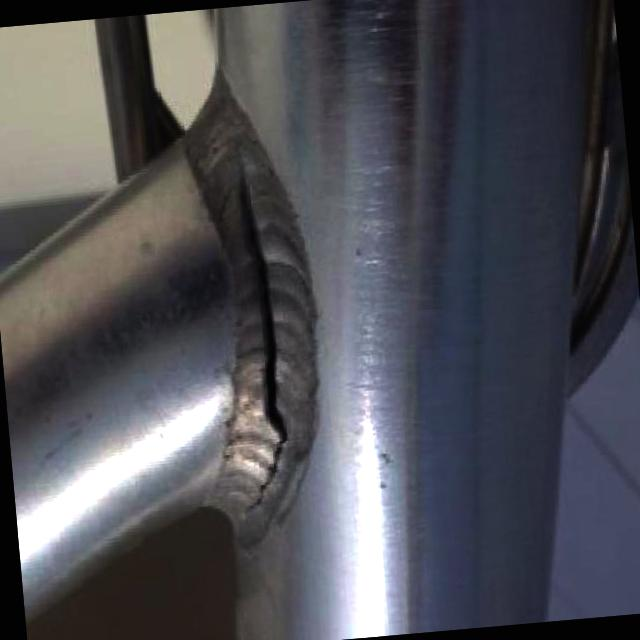crack: (240, 164, 284, 440), (246, 442, 288, 512)
